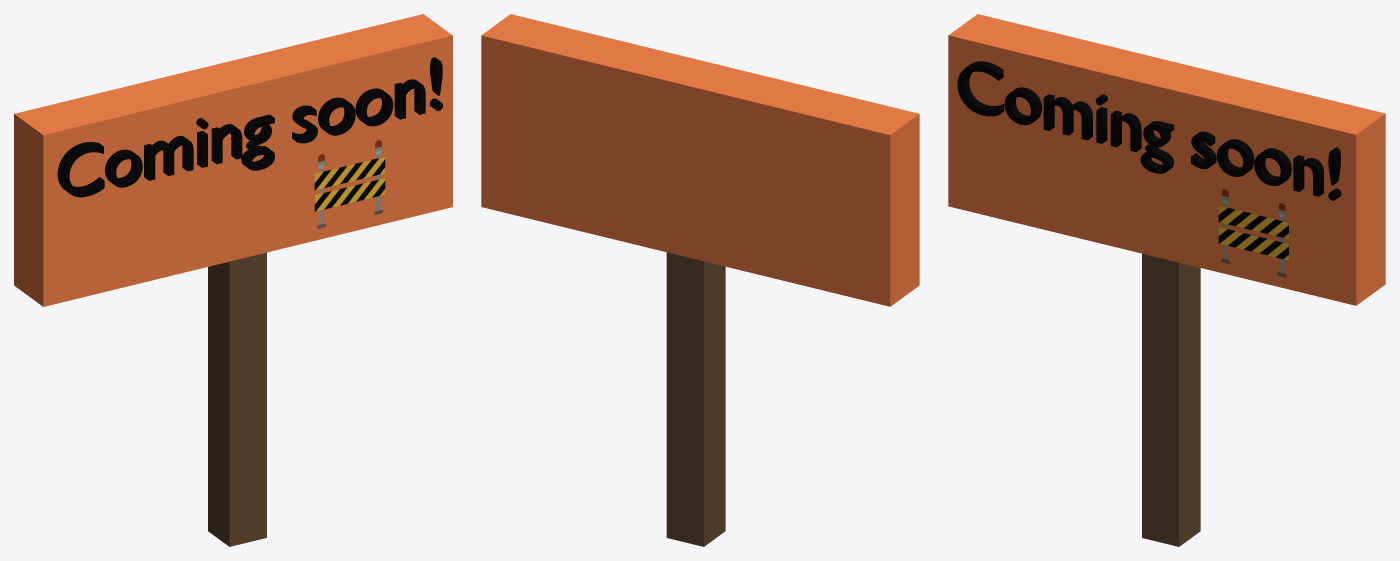
File: coming.glb
The picture shows the model from 3 angles, left to right: view 1: azimuth 30°, elevation 25°; view 2: azimuth 150°, elevation 25°; view 3: azimuth 330°, elevation 25°; orthographic projection.
Parts seen in each view (by area): view 1: Cubo.007, Cubo.001, Texto, under-construction; view 2: Cubo.007, Cubo.001; view 3: Cubo.007, Cubo.001, Texto, under-construction.
Part boxes in pixels (x1=…): Cubo.007: x1=14, y1=14, x2=452, y2=306; Cubo.001: x1=208, y1=252, x2=266, y2=546; Texto: x1=57, y1=57, x2=442, y2=197; under-construction: x1=314, y1=140, x2=385, y2=228; Cubo.007: x1=481, y1=14, x2=919, y2=306; Cubo.001: x1=666, y1=252, x2=725, y2=546; Cubo.007: x1=948, y1=14, x2=1385, y2=305; Cubo.001: x1=1142, y1=253, x2=1200, y2=546; Texto: x1=957, y1=61, x2=1341, y2=200; under-construction: x1=1218, y1=189, x2=1288, y2=277.
Bounding box in the file's own units: 3.37 × 3.63 × 0.4912.
Materials: 4 (1 with a texture image).
